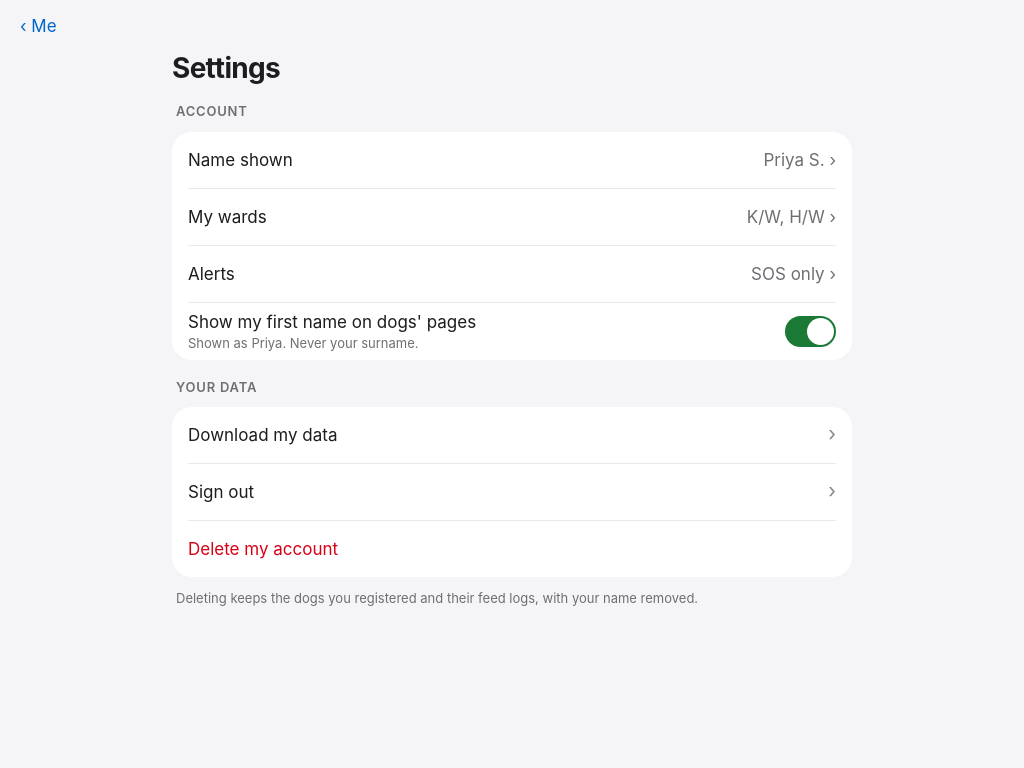
Test: SettingsPage › the SOS switch never flips silently: off opens the pause sheet (L1)
What coordinates should you click on to do the following:
click the button "Alerts SOS only ›"
I would click on:
 (211, 274)
Its box is left=188, top=246, right=836, bottom=302.
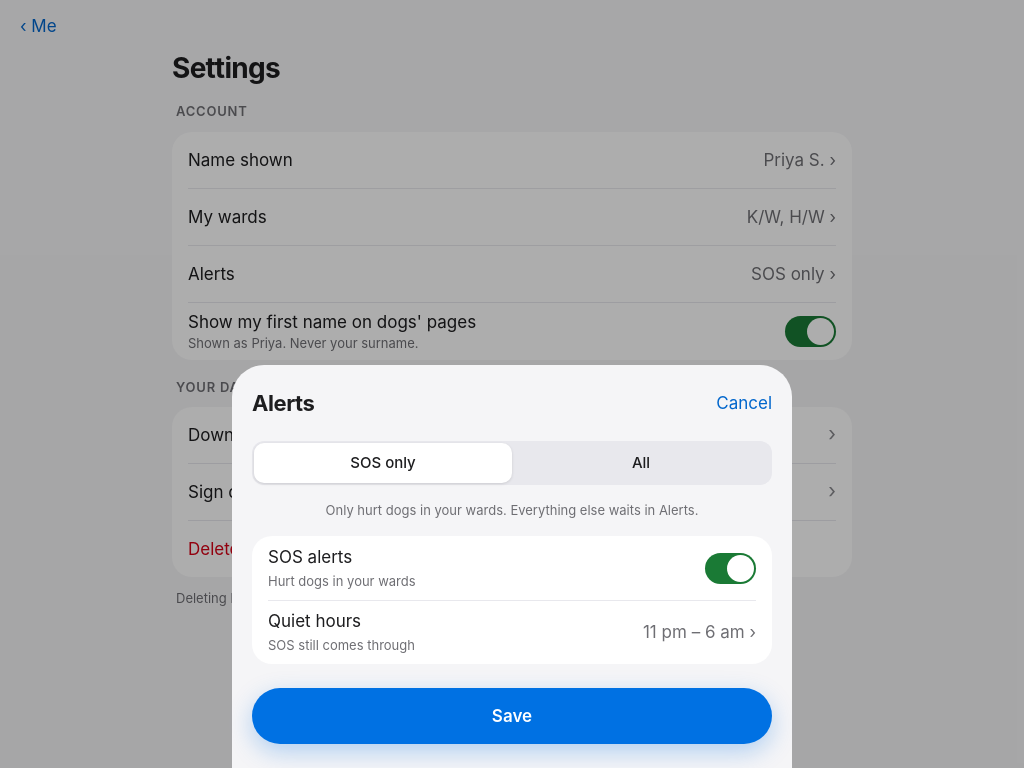
What coordinates should you click on to do the following:
click the switch named "SOS alerts"
I would click on:
 (730, 568)
Its box is left=705, top=552, right=756, bottom=584.
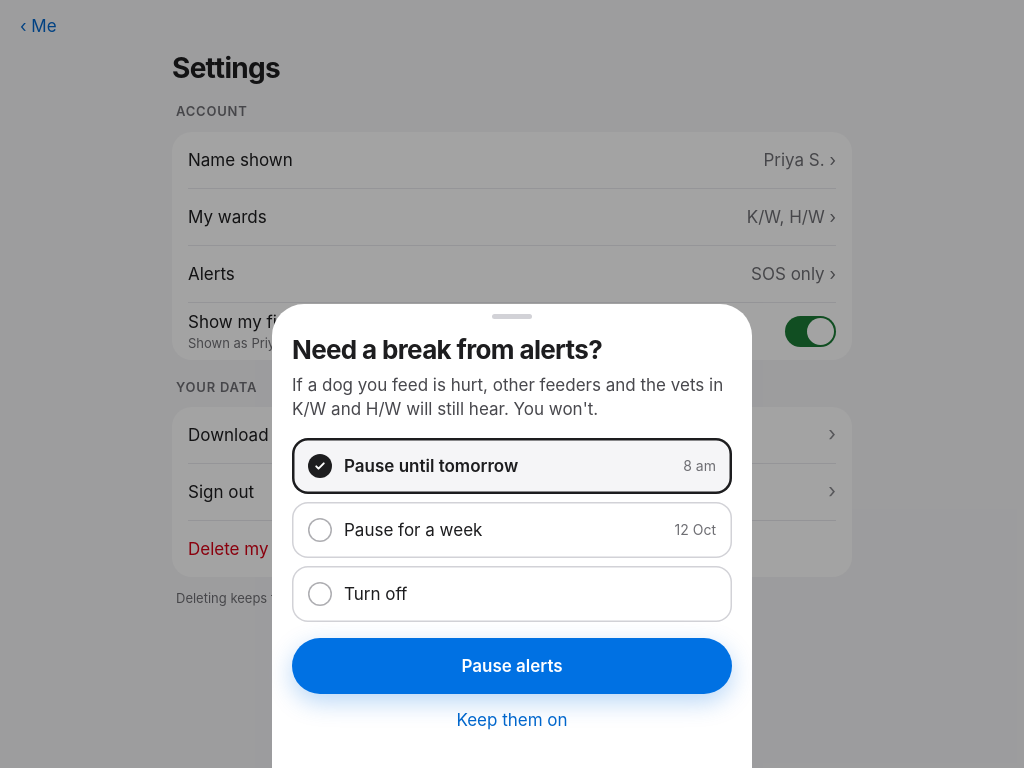
Check: the dialog "Need a break from alerts?" is shown, box left=272, top=304, right=752, bottom=767
